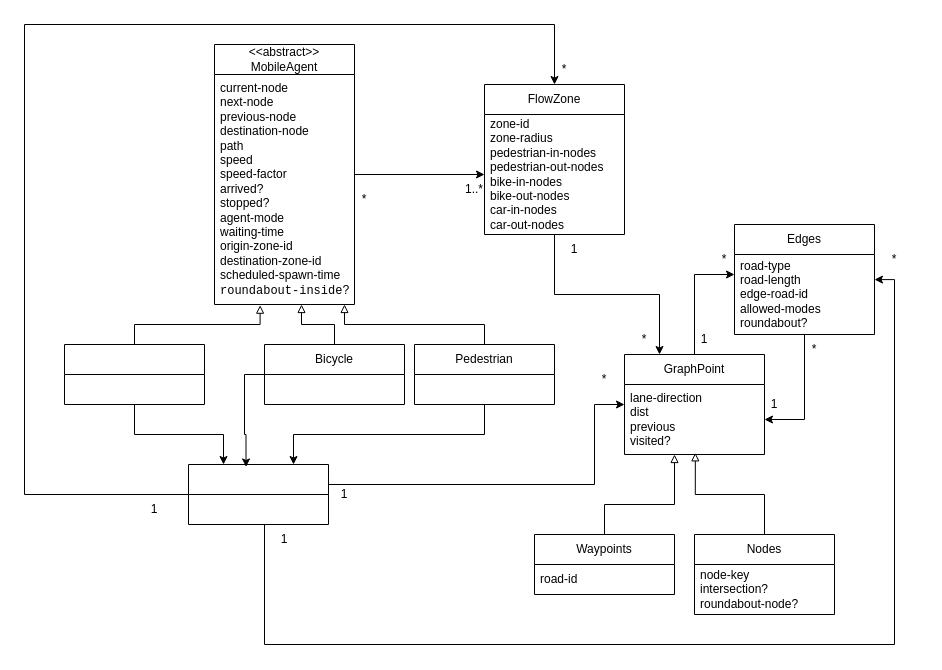
Image size: 942x670. Some labels were removed from this diagram. Each missing label, with the centre of its shape:
Car: (134,374)
MobilityGraph: (258,494)
